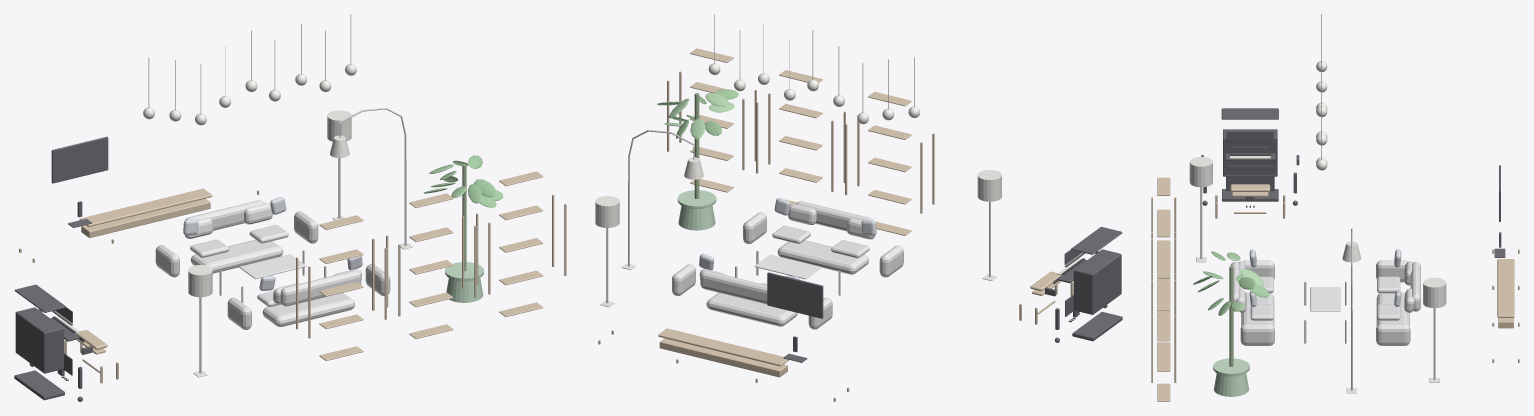
File: agent_scene.glb
3 renders of one model, left to right at view 1: azimuth 30°, elevation 25°; view 2: azimuth 150°, elevation 25°; view 3: azimuth 270°, elevation 25°, orthographic. The views are drawn at different scales.
Parts seen in each view (by area): view 1: sofaA, piano, sofaB, console, shelfC, shelfA, shelfB, tv, coffee_table, lamp1, arc_lamp, lamp2 (+3 smaller); view 2: sofaB, piano, sofaA, console, shelfA, tv, shelfB, shelfC, coffee_table, lamp2, lamp1, arc_lamp (+3 smaller); view 3: piano, sofaA, sofaB, shelfC, console, shelfB, coffee_table, lamp1, lamp2, shelfA, bench, Cone (+3 smaller).
Part boxes in pixels (bbox=[...]): sofaA: bbox=[155, 197, 318, 277]; piano: bbox=[14, 284, 92, 401]; sofaB: bbox=[227, 255, 390, 329]; console: bbox=[19, 188, 271, 262]; shelfC: bbox=[476, 171, 566, 316]; shelfA: bbox=[296, 215, 386, 360]; shelfB: bbox=[386, 193, 476, 338]; tv: bbox=[51, 136, 108, 227]; coffee_table: bbox=[219, 250, 326, 302]; lamp1: bbox=[188, 265, 212, 377]; arc_lamp: bbox=[330, 108, 412, 249]; lamp2: bbox=[327, 110, 351, 220]; sofaB: bbox=[743, 198, 903, 277]; piano: bbox=[1045, 226, 1122, 342]; sofaA: bbox=[672, 253, 832, 329]; console: bbox=[598, 328, 849, 401]; shelfA: bbox=[845, 91, 934, 235]; tv: bbox=[767, 272, 823, 362]; shelfB: bbox=[756, 70, 845, 204]; shelfC: bbox=[667, 48, 756, 192]; coffee_table: bbox=[735, 250, 840, 295]; lamp2: bbox=[595, 196, 619, 307]; lamp1: bbox=[977, 170, 1001, 280]; arc_lamp: bbox=[621, 130, 703, 269]; piano: bbox=[1201, 108, 1299, 207]; sofaA: bbox=[1376, 249, 1420, 345]; sofaB: bbox=[1230, 249, 1274, 345]; shelfC: bbox=[1151, 260, 1176, 401]; console: bbox=[1492, 249, 1519, 362]; shelfB: bbox=[1151, 219, 1176, 353]; coffee_table: bbox=[1304, 281, 1346, 343]; lamp1: bbox=[1189, 157, 1212, 262]; lamp2: bbox=[1423, 277, 1446, 382]; shelfA: bbox=[1151, 177, 1176, 312]; bench: bbox=[1215, 184, 1285, 218]; Cone: bbox=[1214, 373, 1248, 396].
Size of the model in its own units: 7.02 by 3.73 by 4.9.
